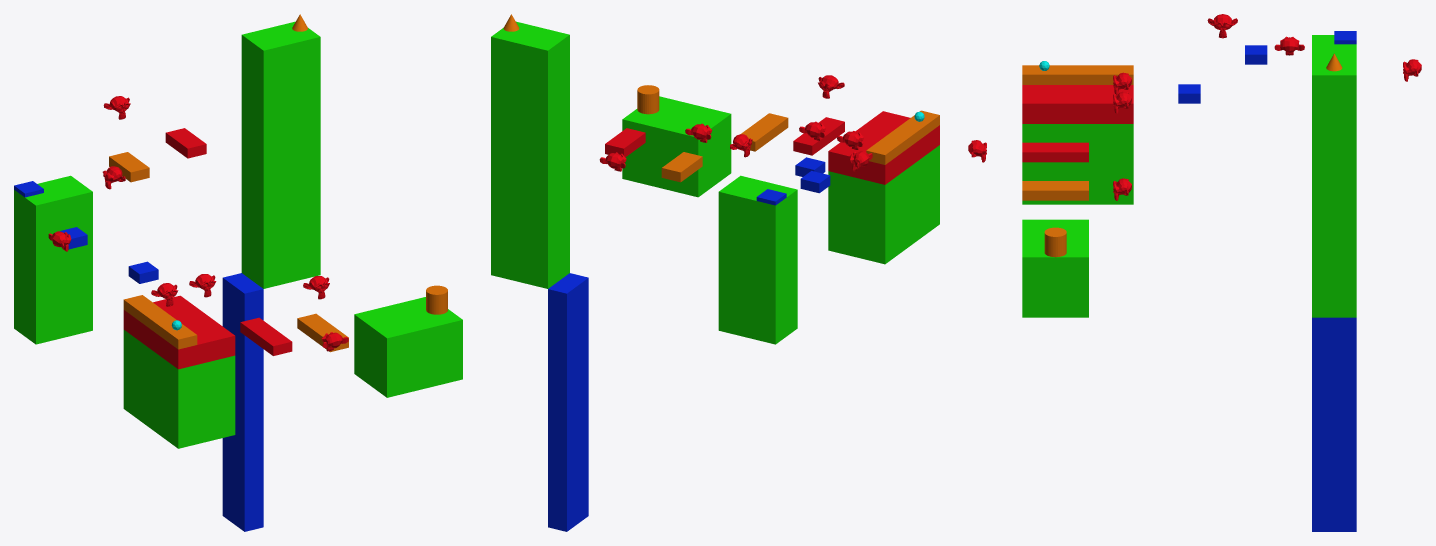
The picture shows the model from 3 angles, left to right: view 1: azimuth 30°, elevation 25°; view 2: azimuth 150°, elevation 25°; view 3: azimuth 270°, elevation 25°; orthographic projection.
Parts seen in each view (by area): view 1: Cube.453, Cube.357, Cube.376, Cube.241, Cube.435, Cube.412, Cube.413, Cube.253, Cube.250, Cube.417, Cube.416, Cylinder (+1 smaller); view 2: Cube.453, Cube.357, Cube.435, Cube.376, Cube.241, Cube.412, Cube.413, Cube.250, Cube.253, Cube.416, Cube.417, Cylinder (+1 smaller); view 3: Cube.453, Cube.435, Cube.376, Cube.241, Cube.412, Cube.413, Cube.253, Cube.250, Cylinder.
Part boxes in pixels (box(x1,y1,x2,y2)): Cube.453: box(241, 21, 320, 288); Cube.357: box(14, 175, 92, 344); Cube.376: box(123, 330, 235, 448); Cube.241: box(354, 297, 462, 397); Cube.435: box(222, 273, 263, 531); Cube.412: box(123, 295, 235, 369); Cube.413: box(123, 295, 197, 349); Cube.253: box(240, 317, 292, 355); Cube.250: box(297, 313, 348, 352); Cube.417: box(165, 128, 206, 158); Cube.416: box(109, 152, 149, 182); Cylinder: box(426, 285, 447, 314); Cube.453: box(491, 21, 569, 288); Cube.357: box(718, 175, 797, 344); Cube.435: box(548, 273, 588, 531); Cube.376: box(828, 145, 939, 264); Cube.241: box(622, 96, 731, 197); Cube.412: box(828, 111, 939, 184); Cube.413: box(866, 110, 939, 164); Cube.250: box(740, 113, 788, 151); Cube.253: box(793, 117, 844, 155); Cube.416: box(661, 152, 702, 182); Cube.417: box(605, 128, 645, 157); Cylinder: box(637, 85, 659, 114); Cube.453: box(1312, 47, 1356, 317); Cube.435: box(1312, 317, 1356, 531); Cube.376: box(1022, 124, 1133, 204); Cube.241: box(1022, 219, 1088, 317); Cube.412: box(1022, 85, 1133, 123); Cube.413: box(1022, 65, 1133, 84); Cube.253: box(1022, 142, 1088, 162); Cube.250: box(1022, 181, 1088, 200); Cylinder: box(1044, 227, 1066, 257).
Size of the model in its own units: 3285 by 4973 by 4070.
